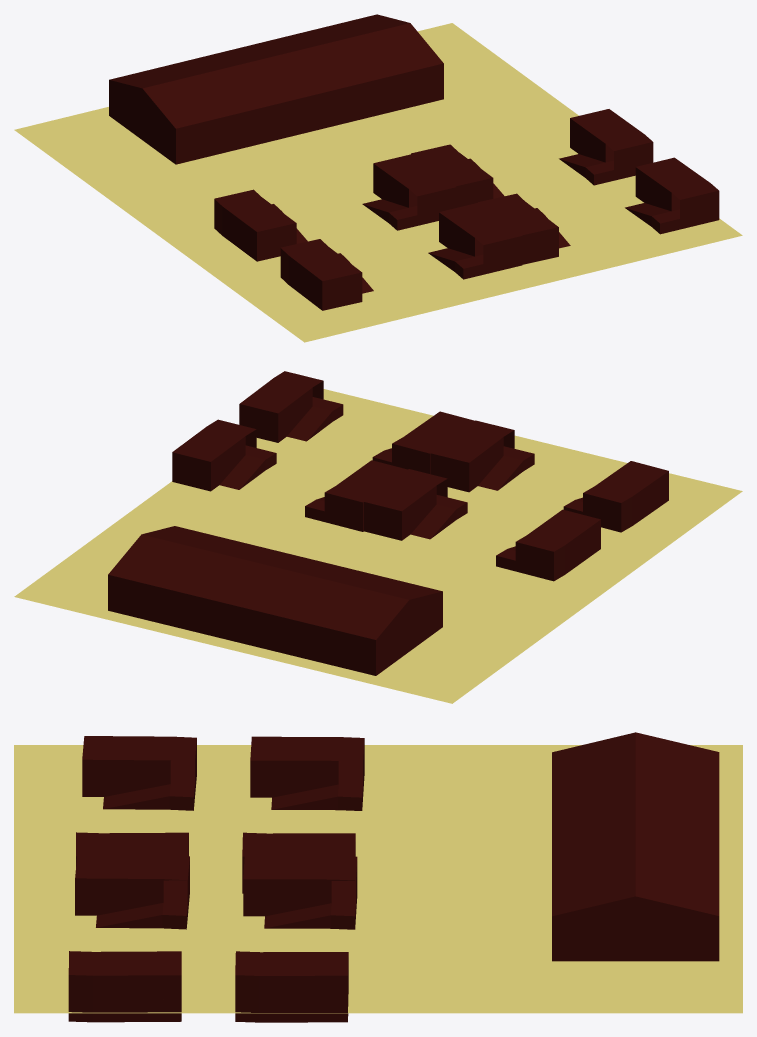
Rendered from MainCampGraybox.fbx.
The picture shows the model from 3 angles, top to bottom: view 1: azimuth 30°, elevation 25°; view 2: azimuth 150°, elevation 25°; view 3: azimuth 270°, elevation 25°; orthographic projection. The views are drawn at different scales.
Visible parts, largest first — view 1: Plane, Cube, Cube.008, Cube.004, Cube.010, Cube.002, Cube.003, Cube.001, Cube.009, Cube.011; view 2: Plane, Cube, Cube.010, Cube.002, Cube.004, Cube.008, Cube.001, Cube.003, Cube.011, Cube.009; view 3: Plane, Cube, Cube.003, Cube.001, Cube.011, Cube.008, Cube.010, Cube.009, Cube.002, Cube.004.
Part boxes in pixels (x1,y1,x2,y2): Plane: [14, 23, 742, 342]; Cube: [109, 14, 443, 164]; Cube.008: [625, 157, 719, 234]; Cube.004: [428, 203, 522, 279]; Cube.010: [559, 109, 653, 185]; Cube.002: [362, 154, 456, 230]; Cube.003: [280, 239, 373, 310]; Cube.001: [214, 189, 307, 261]; Cube.009: [477, 193, 570, 264]; Cube.011: [411, 144, 504, 207]; Plane: [14, 389, 742, 703]; Cube: [108, 526, 442, 675]; Cube.010: [172, 419, 276, 491]; Cube.002: [363, 469, 467, 540]; Cube.004: [430, 420, 534, 492]; Cube.008: [239, 371, 343, 442]; Cube.001: [496, 509, 600, 581]; Cube.003: [563, 461, 668, 532]; Cube.011: [305, 460, 409, 531]; Cube.009: [372, 411, 477, 474]; Plane: [14, 745, 742, 1013]; Cube: [552, 732, 719, 961]; Cube.003: [82, 736, 196, 810]; Cube.001: [250, 736, 364, 810]; Cube.011: [243, 855, 357, 929]; Cube.008: [68, 951, 181, 1022]; Cube.010: [235, 951, 348, 1022]; Cube.009: [75, 854, 189, 929]; Cube.002: [242, 832, 355, 893]; Cube.004: [76, 832, 188, 880].
Size of the model in its own units: 5880 by 762 by 6751.
